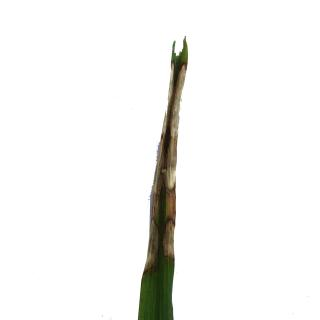Hawar-Daun: (146, 35, 188, 303)
